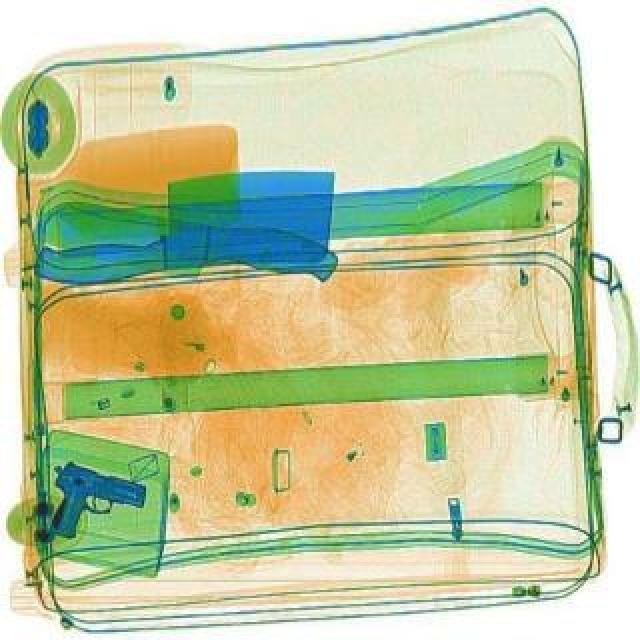gun: (36, 452, 152, 554)
knife: (24, 174, 350, 312), (24, 162, 340, 284)
